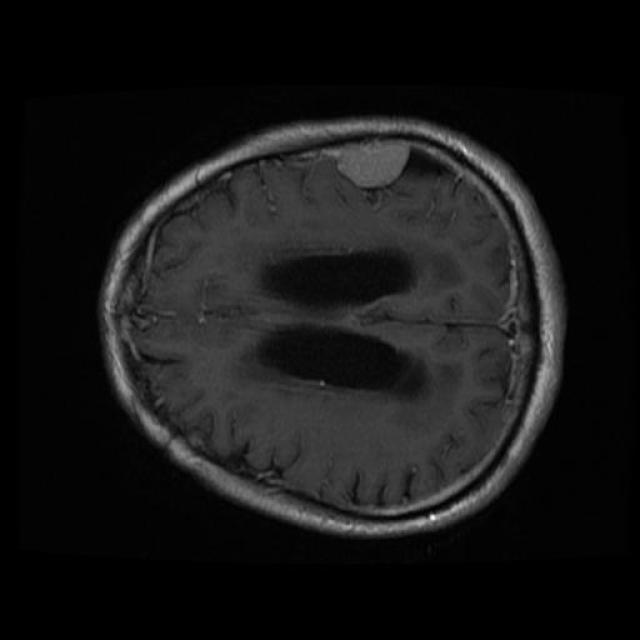Meningioma: (321, 140, 410, 188)
